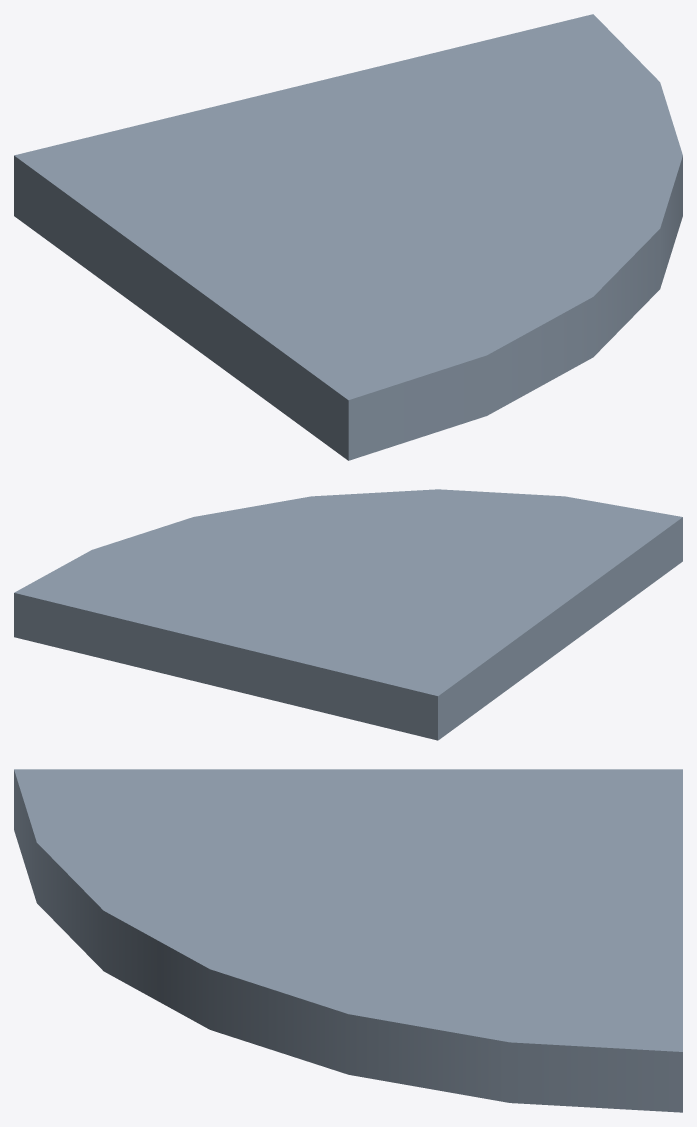
The model's file is RoadSideCornerSmall.fbx.
The picture shows the model from 3 angles, top to bottom: view 1: azimuth 30°, elevation 25°; view 2: azimuth 150°, elevation 25°; view 3: azimuth 270°, elevation 25°; orthographic projection. The views are drawn at different scales.
Visible parts, largest first — view 1: CornerSmall; view 2: CornerSmall; view 3: CornerSmall.
Part boxes in pixels (x1,y1,x2,y2): CornerSmall: (14,14,682,460); CornerSmall: (14,489,682,740); CornerSmall: (14,769,682,1112).
Size of the model in its own units: 100 by 10 by 100.
